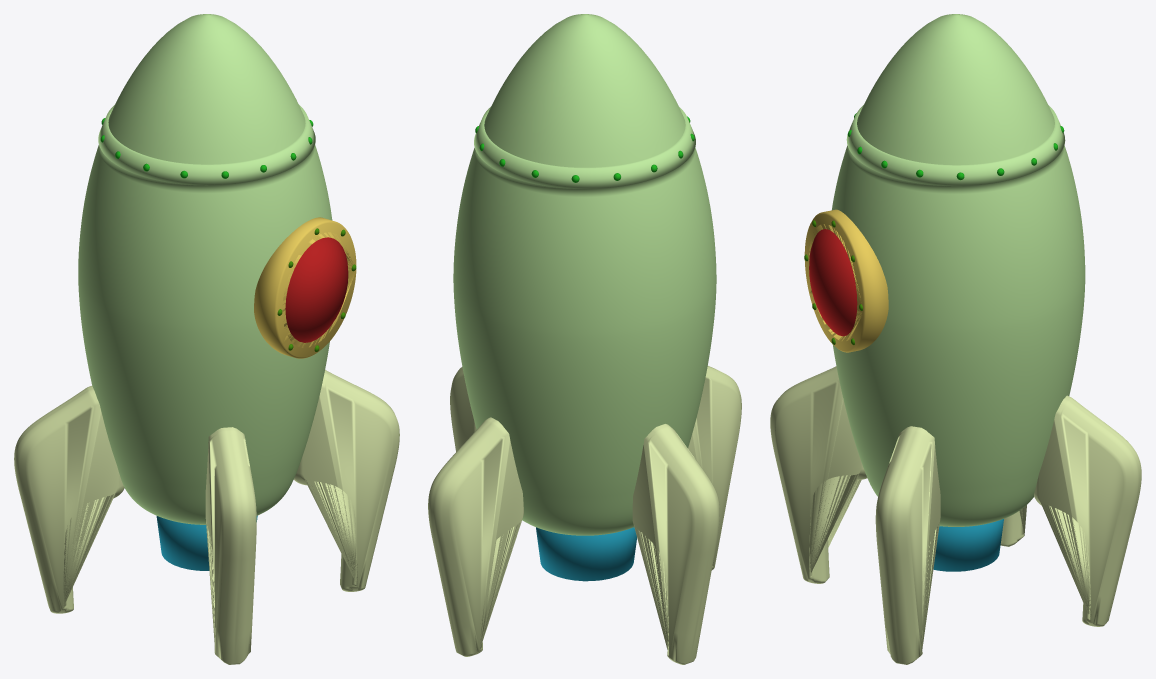
The model's file is pao.obj.
3 views of the same model, side by side, from view 1: azimuth 30°, elevation 25°; view 2: azimuth 150°, elevation 25°; view 3: azimuth 270°, elevation 25° (orthographic). The views are drawn at different scales.
Parts seen in each view (by area): view 1: Obj3d66_591540_1_644, Obj3d66_591540_2_826, Obj3d66_591540_32_594, Obj3d66_591540_31_150, Obj3d66_591540_37_494, Obj3d66_591540_19_61, Obj3d66_591540_29_803, Obj3d66_591540_36_482, Obj3d66_591540_38_225; view 2: Obj3d66_591540_1_644, Obj3d66_591540_2_826, Obj3d66_591540_34_378, Obj3d66_591540_33_348, Obj3d66_591540_37_494, Obj3d66_591540_38_225, Obj3d66_591540_32_594, Obj3d66_591540_30_459, Obj3d66_591540_35_563; view 3: Obj3d66_591540_1_644, Obj3d66_591540_2_826, Obj3d66_591540_35_563, Obj3d66_591540_36_482, Obj3d66_591540_30_459, Obj3d66_591540_19_61, Obj3d66_591540_29_803, Obj3d66_591540_31_150, Obj3d66_591540_38_225, Obj3d66_591540_33_348, Obj3d66_591540_34_378, Obj3d66_591540_37_494.
Boxes of the visible parts, <box> form: Obj3d66_591540_1_644: <box>78,105,332,524</box>; Obj3d66_591540_2_826: <box>108,14,305,164</box>; Obj3d66_591540_32_594: <box>15,388,124,613</box>; Obj3d66_591540_31_150: <box>294,372,399,591</box>; Obj3d66_591540_37_494: <box>205,427,240,664</box>; Obj3d66_591540_19_61: <box>254,217,356,358</box>; Obj3d66_591540_29_803: <box>285,237,348,342</box>; Obj3d66_591540_36_482: <box>227,427,256,664</box>; Obj3d66_591540_38_225: <box>156,515,257,570</box>; Obj3d66_591540_1_644: <box>453,107,716,535</box>; Obj3d66_591540_2_826: <box>484,14,685,167</box>; Obj3d66_591540_34_378: <box>432,419,523,656</box>; Obj3d66_591540_33_348: <box>632,425,712,664</box>; Obj3d66_591540_37_494: <box>688,366,741,570</box>; Obj3d66_591540_38_225: <box>536,527,636,581</box>; Obj3d66_591540_32_594: <box>661,424,719,662</box>; Obj3d66_591540_30_459: <box>450,367,476,451</box>; Obj3d66_591540_35_563: <box>428,417,494,653</box>; Obj3d66_591540_1_644: <box>832,105,1085,526</box>; Obj3d66_591540_2_826: <box>857,14,1054,165</box>; Obj3d66_591540_35_563: <box>1034,398,1139,626</box>; Obj3d66_591540_36_482: <box>770,367,867,583</box>; Obj3d66_591540_30_459: <box>889,427,940,664</box>; Obj3d66_591540_19_61: <box>804,209,888,352</box>; Obj3d66_591540_29_803: <box>809,229,857,336</box>; Obj3d66_591540_31_150: <box>875,426,915,663</box>; Obj3d66_591540_38_225: <box>933,519,1003,571</box>; Obj3d66_591540_33_348: <box>1002,505,1026,546</box>; Obj3d66_591540_34_378: <box>1065,395,1141,621</box>; Obj3d66_591540_37_494: <box>781,366,861,579</box>.
Bounding box in the file's own units: 2403 × 4194 × 2403.
